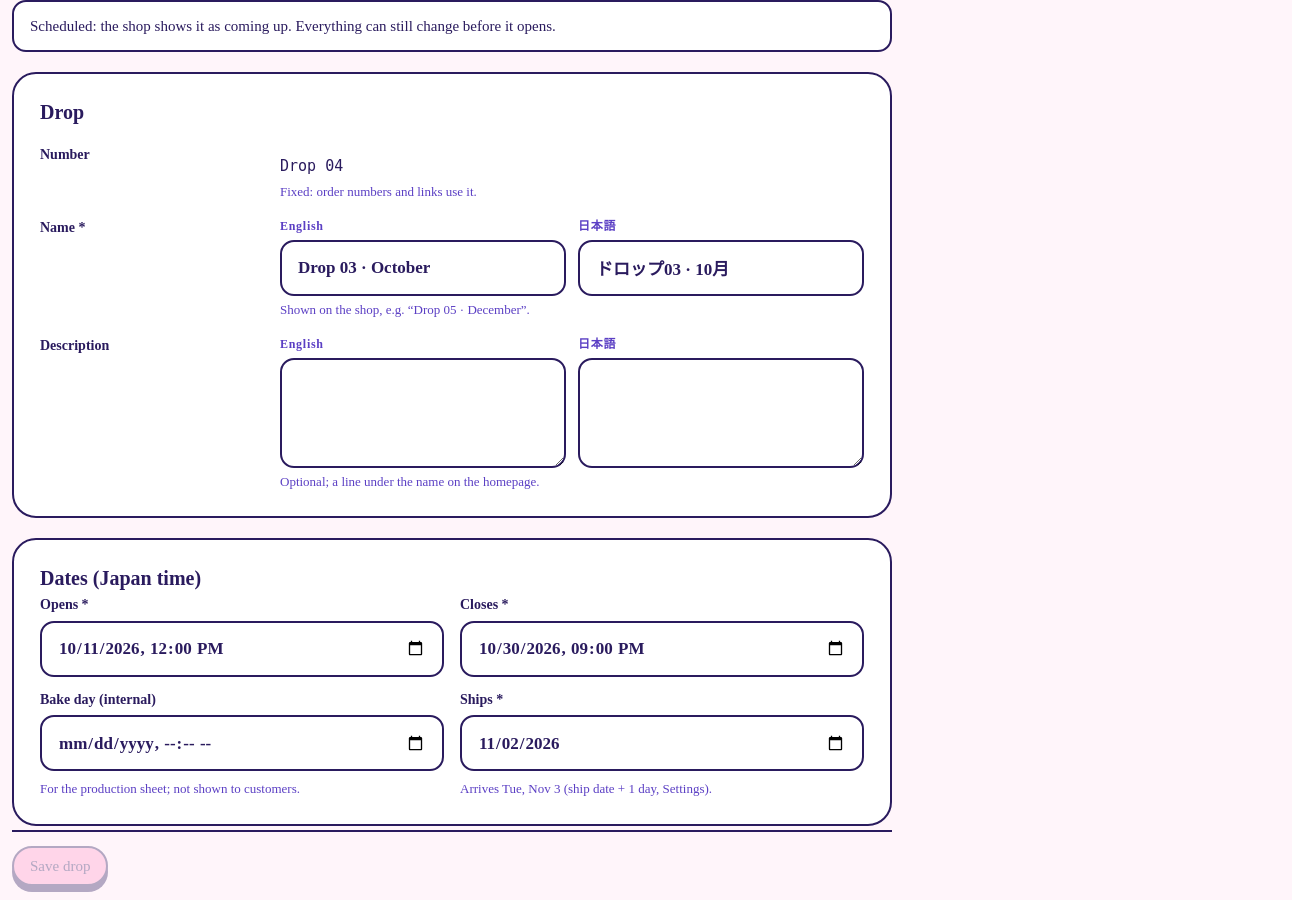
Test case: DropForm and the state it was drawn for › shows a stale-state refusal with a Reload button and keeps the draft unsaved
Type "2026-12-24" into the date field labelled "Ships *" at (662, 743), box x1=460 y1=715 x2=864 y2=771
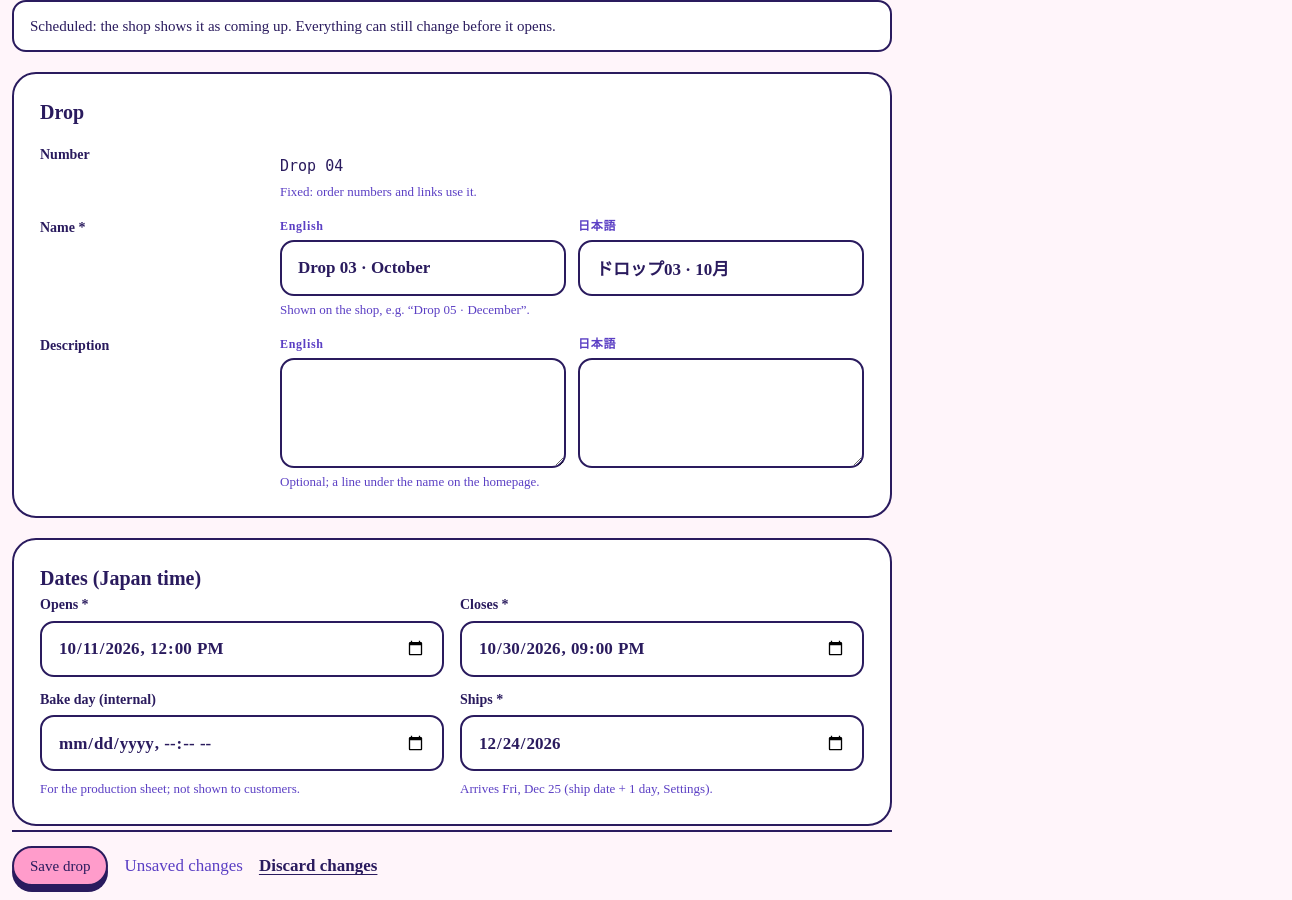
Click the button "Save drop" at (60, 866), box x1=12 y1=846 x2=108 y2=886
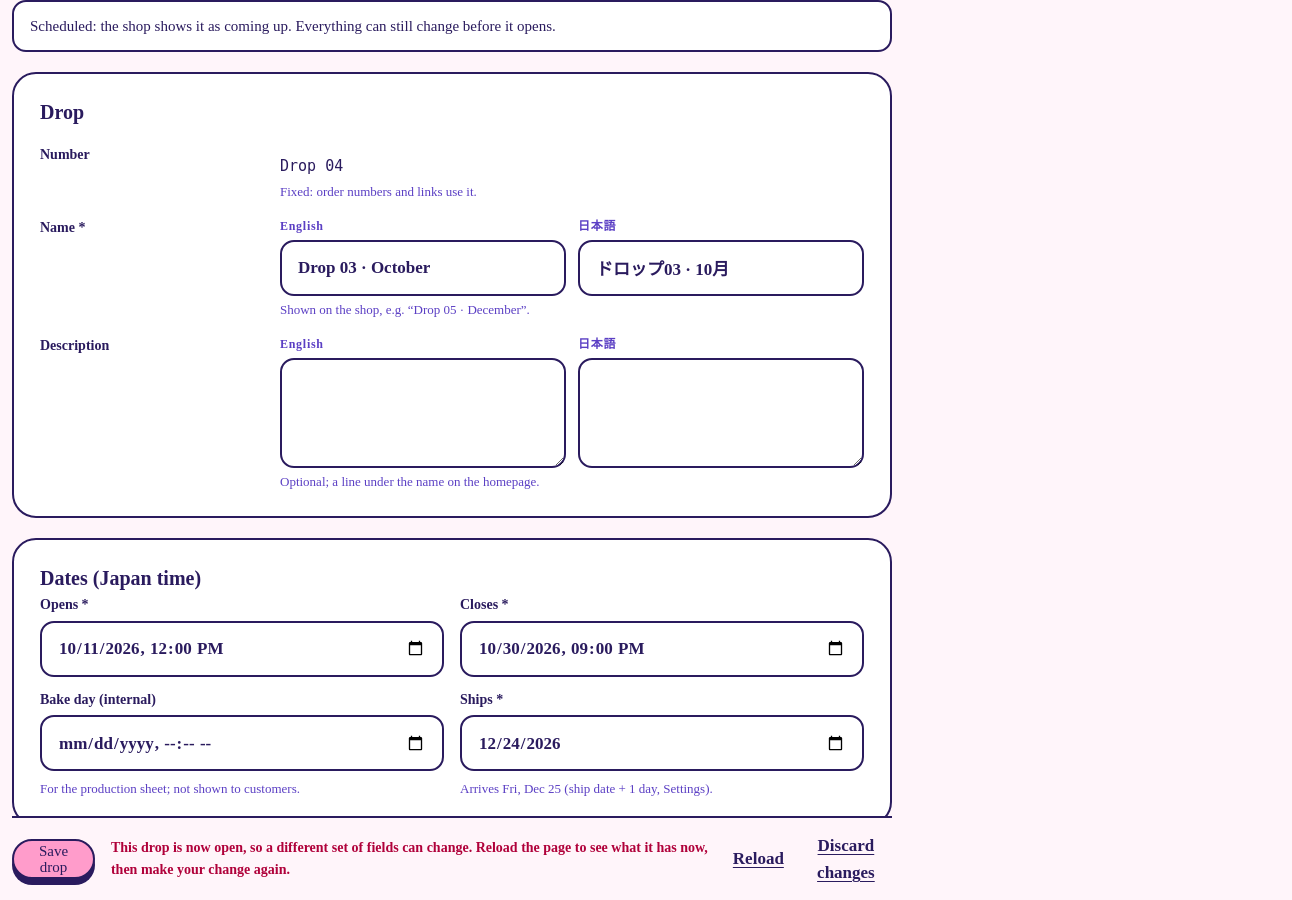
Expected: the button "Save drop" is enabled, x1=12 y1=839 x2=95 y2=879
Expected: the message shows "This drop is now open", x1=111 y1=839 x2=708 y2=877
Expected: the button "Reload" is shown, x1=733 y1=845 x2=784 y2=872
Type "2026-12-25" into the date field labelled "Ships *" at (662, 743), box x1=460 y1=715 x2=864 y2=771
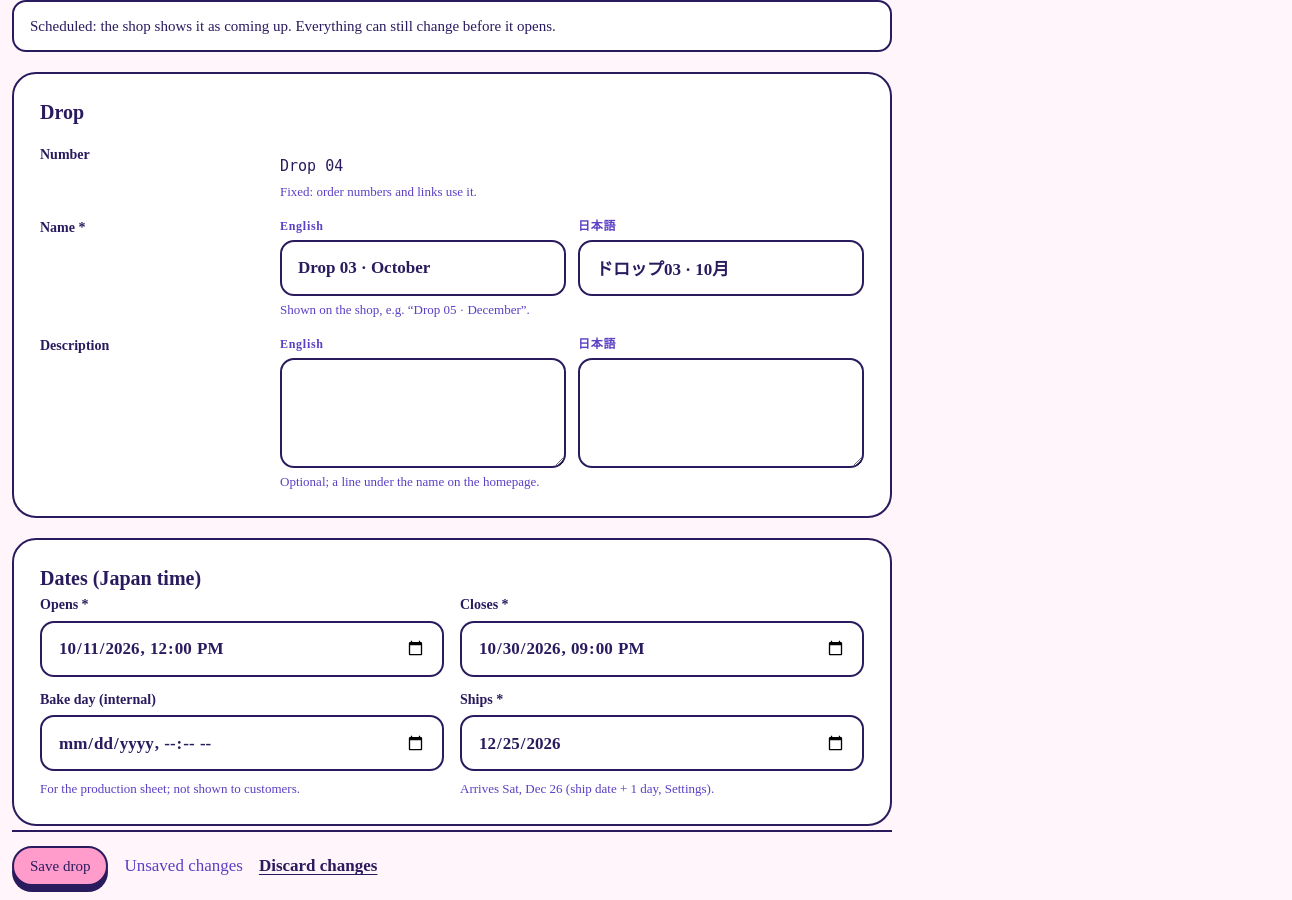
Expected: the message "Reload" is gone
